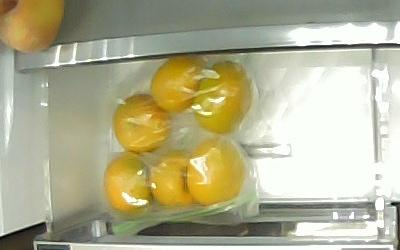persimmon_vinyl: (190, 59, 252, 135), (184, 137, 243, 206), (112, 92, 173, 154), (102, 150, 154, 217), (149, 57, 207, 114), (148, 147, 196, 208)
